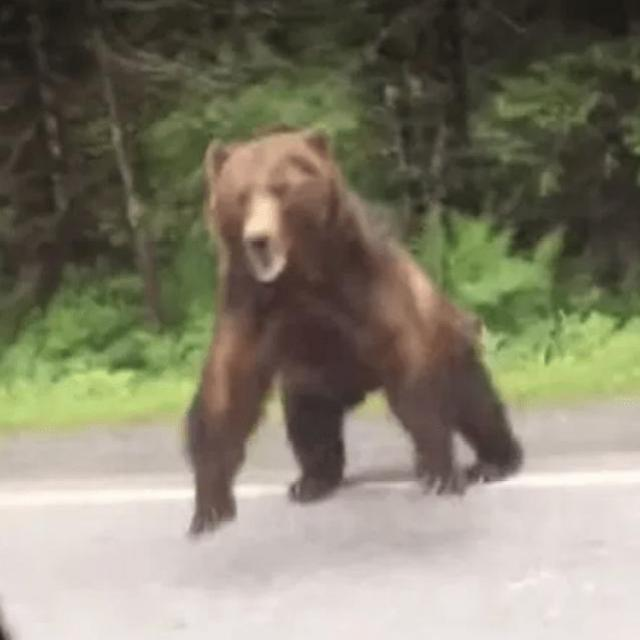Bear: (183, 132, 526, 542)
